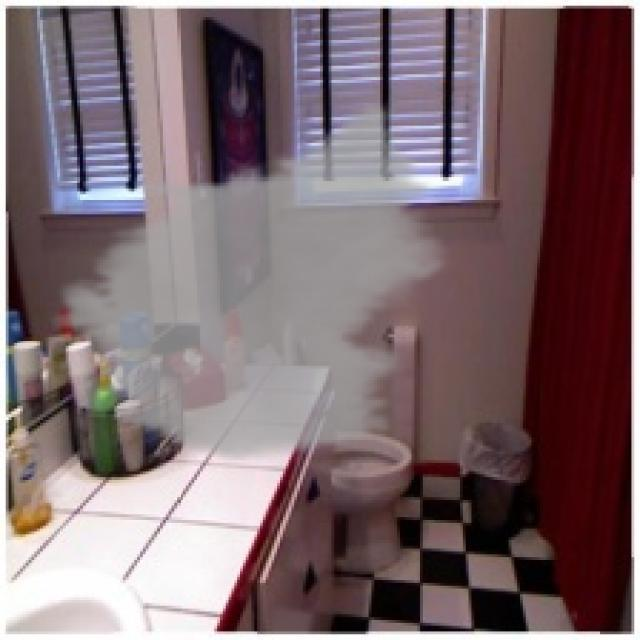Smoke: (46, 100, 460, 466)
